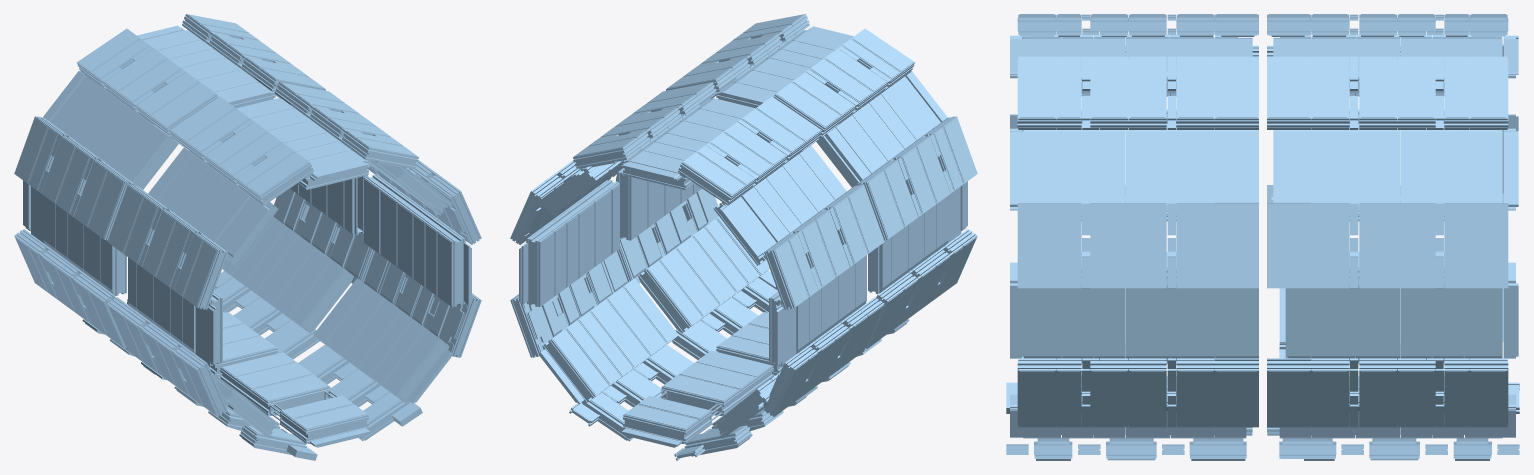
Rendered from Muon-Barrel-Middle.gltf.
3 renders of one model, left to right at view 1: azimuth 30°, elevation 25°; view 2: azimuth 150°, elevation 25°; view 3: azimuth 270°, elevation 25°, orthographic. The views are drawn at different scales.
Visible parts, largest first — view 1: _065B53E8, _06D92DB8; view 2: _065B53E8, _06D92DB8; view 3: _065B53E8, _06D92DB8.
Boxes of the visible parts, box(x1,y1,x2,y2) form: _065B53E8: box(14, 14, 481, 440); _06D92DB8: box(14, 25, 465, 460); _065B53E8: box(510, 14, 977, 441); _06D92DB8: box(519, 30, 977, 456); _065B53E8: box(1006, 14, 1518, 460); _06D92DB8: box(1006, 37, 1518, 435).
Size of the model in its own units: 16.78 by 16.8 by 19.6.
